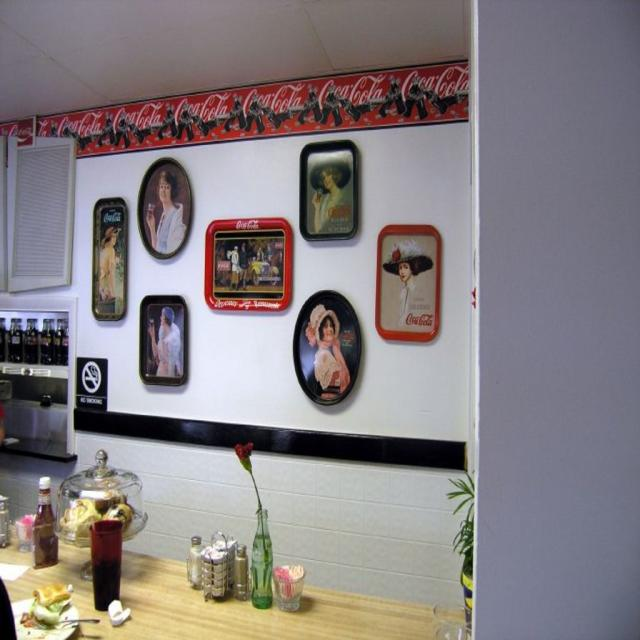non-organic waste: (374, 212, 442, 365), (203, 208, 291, 322), (134, 148, 197, 265), (298, 138, 364, 244)
